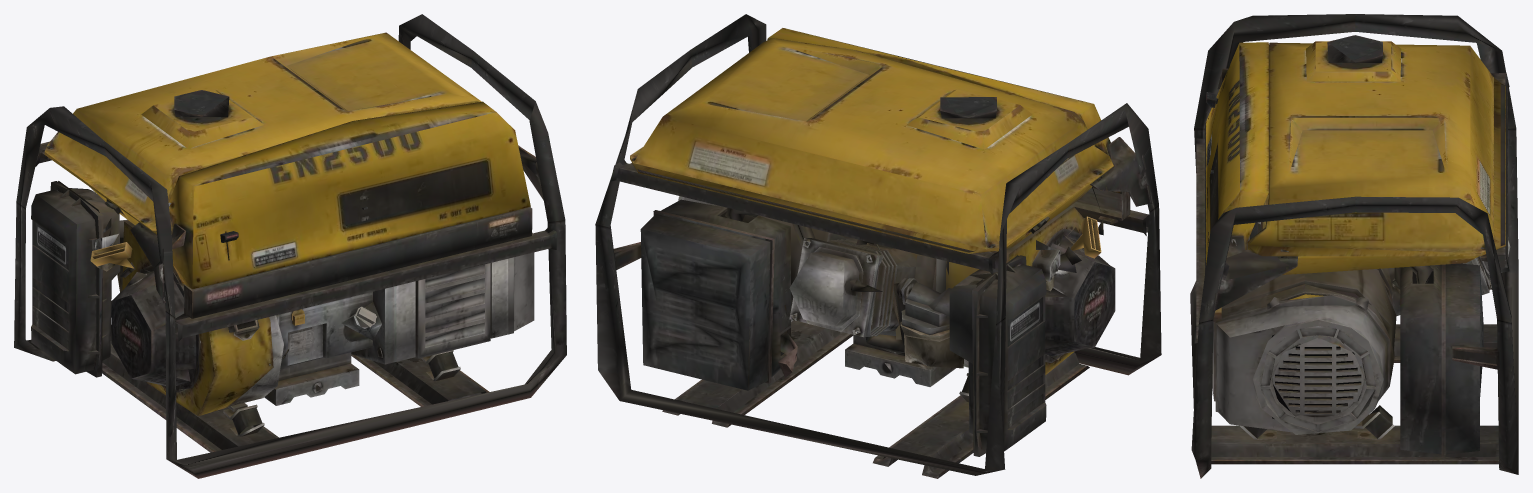
File: generator.glb
3 renders of one model, left to right at view 1: azimuth 30°, elevation 25°; view 2: azimuth 150°, elevation 25°; view 3: azimuth 270°, elevation 25°, orthographic. The views are drawn at different scales.
Visible parts, largest first — view 1: portable_generator; view 2: portable_generator; view 3: portable_generator.
Part boxes in pixels (box(x1,y1,x2,y2)): portable_generator: box(14, 14, 566, 478); portable_generator: box(595, 14, 1161, 478); portable_generator: box(1190, 14, 1518, 478).
Size of the model in its own units: 0.8146 by 0.5752 by 0.5615.
2 materials, 2 textured.
